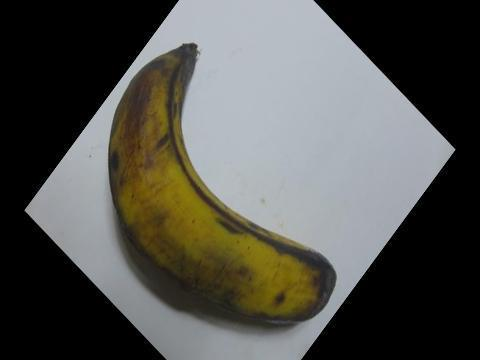rotten: (81, 36, 350, 327)
